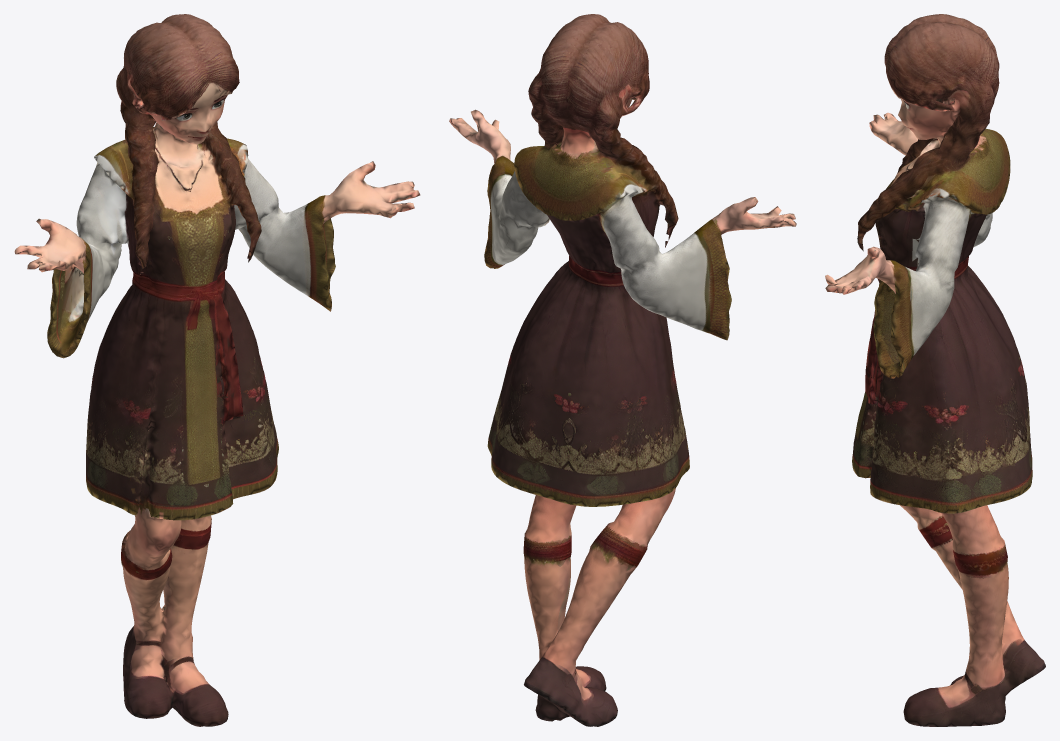
File: uschi.glb
3 renders of one model, left to right at view 1: azimuth 30°, elevation 25°; view 2: azimuth 150°, elevation 25°; view 3: azimuth 270°, elevation 25°, orthographic. The views are drawn at different scales.
Parts seen in each view (by area): view 1: Mesh_0; view 2: Mesh_0; view 3: Mesh_0.
Boxes of the visible parts, <box> form: Mesh_0: <box>14,14,420,726</box>; Mesh_0: <box>449,14,796,726</box>; Mesh_0: <box>825,14,1045,726</box>.
Size of the model in its own units: 0.9298 by 1.65 by 0.4792.
Materials: 1 (1 with a texture image).
